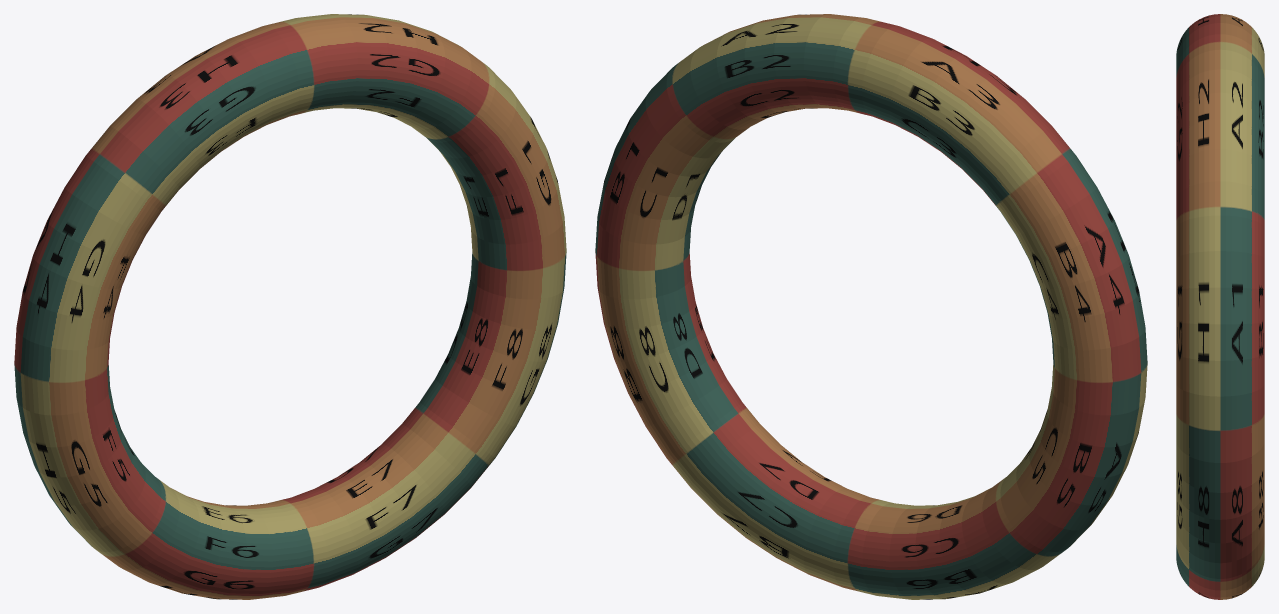
Rendered from texture_torus_R22_r9.glb.
The picture shows the model from 3 angles, left to right: view 1: azimuth 30°, elevation 25°; view 2: azimuth 150°, elevation 25°; view 3: azimuth 270°, elevation 25°; orthographic projection. The views are drawn at different scales.
Parts seen in each view (by area): view 1: world; view 2: world; view 3: world.
Part boxes in pixels (x1,y1,x2,y2): world: (14,14,566,599); world: (595,14,1147,599); world: (1176,14,1264,599).
Size of the model in its own units: 29.07 by 29.01 by 4.39.
Materials: 1 (1 with a texture image).
